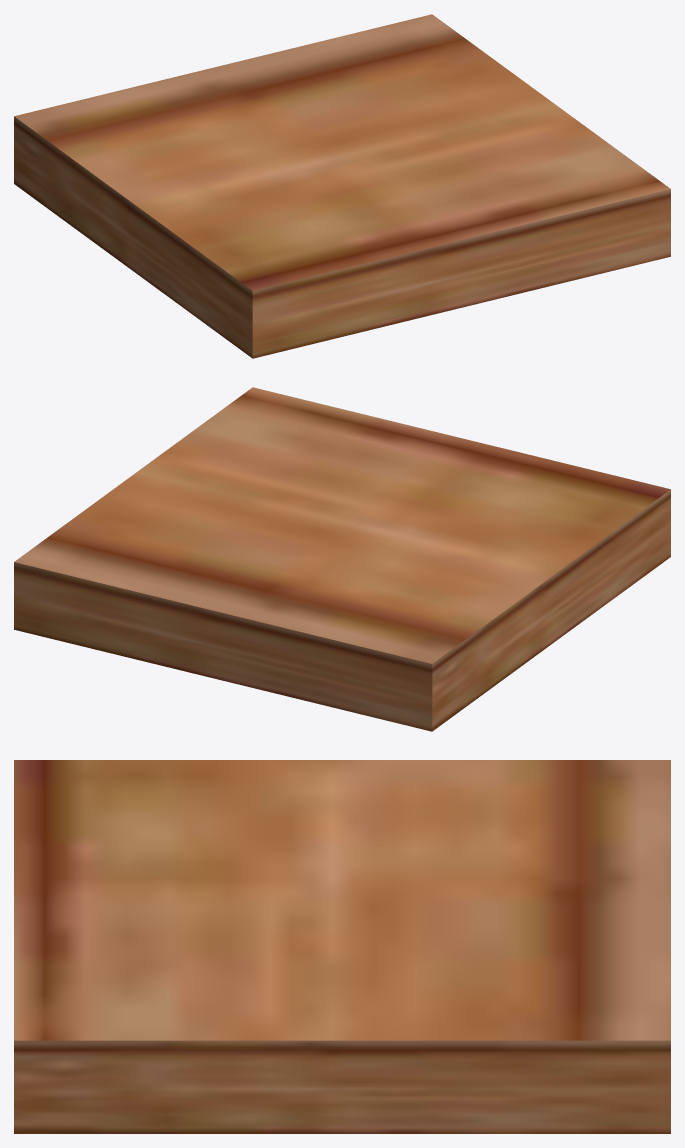
Rendered from serverbox.fbx.
3 views of the same model, one above another, from view 1: azimuth 30°, elevation 25°; view 2: azimuth 150°, elevation 25°; view 3: azimuth 270°, elevation 25° (orthographic). The views are drawn at different scales.
Visible parts, largest first — view 1: Crate_ReadyServer_Compute; view 2: Crate_ReadyServer_Compute; view 3: Crate_ReadyServer_Compute.
Boxes of the visible parts, left/top/right/bottom form: Crate_ReadyServer_Compute: left=14, top=14, right=670, bottom=358; Crate_ReadyServer_Compute: left=14, top=387, right=670, bottom=731; Crate_ReadyServer_Compute: left=14, top=760, right=670, bottom=1133.
Size of the model in its own units: 506 by 78.17 by 500.
